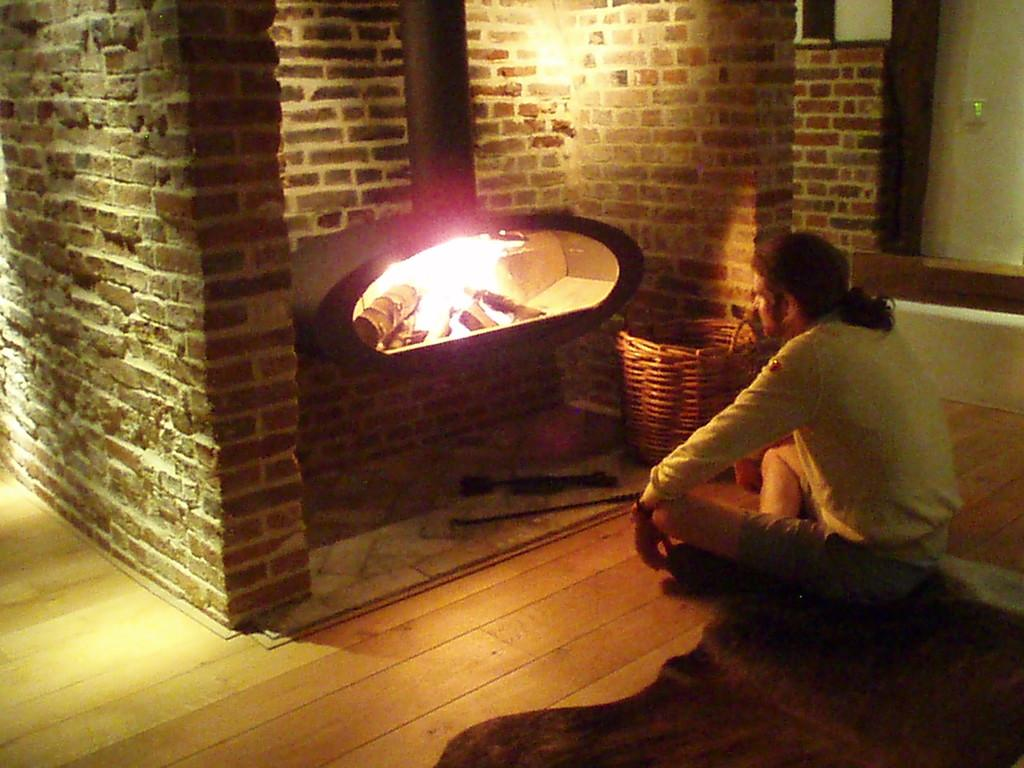fire: (359, 218, 575, 356)
